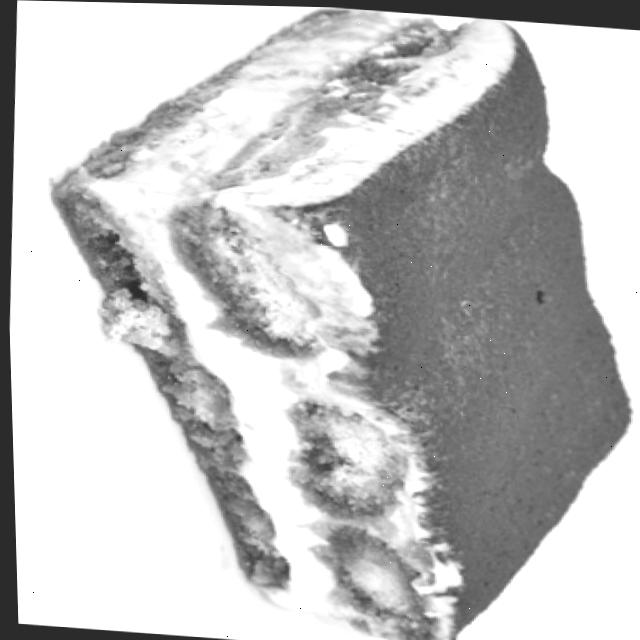蛋糕甜品: (3, 0, 640, 640)
